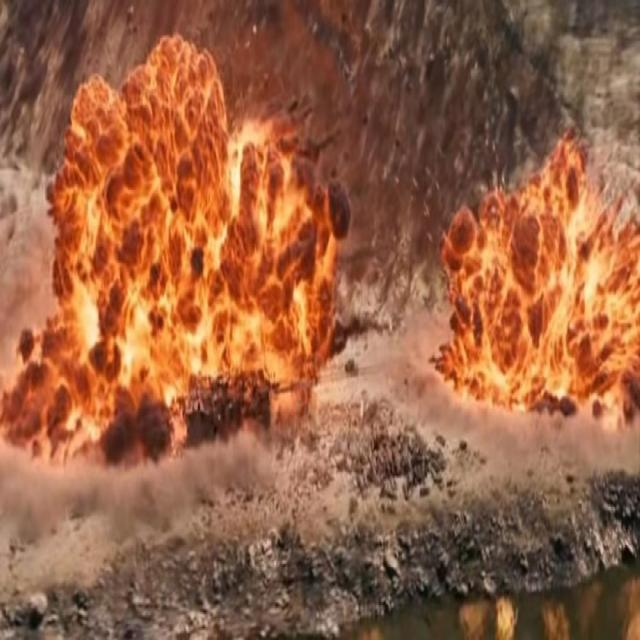fire: (1, 26, 342, 480), (430, 151, 640, 398)
